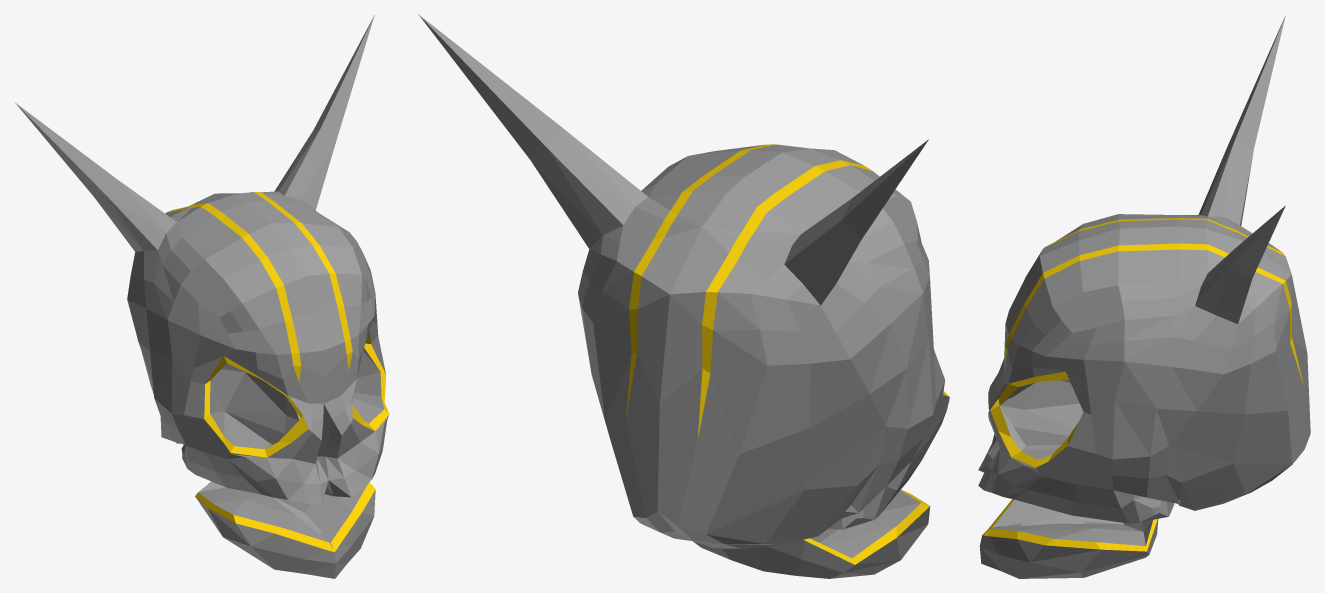
Rendered from BossSkull.fbx.
3 renders of one model, left to right at view 1: azimuth 30°, elevation 25°; view 2: azimuth 150°, elevation 25°; view 3: azimuth 270°, elevation 25°, orthographic. The views are drawn at different scales.
Parts seen in each view (by area): view 1: Skull.002; view 2: Skull.002; view 3: Skull.002.
Part boxes in pixels (bbox=[...]): Skull.002: bbox=[15, 15, 389, 578]; Skull.002: bbox=[418, 14, 949, 578]; Skull.002: bbox=[978, 15, 1310, 578].
Size of the model in its own units: 1.91 by 1.4 by 2.11.
